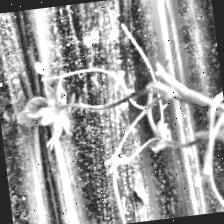Gray Mold: (11, 72, 81, 153)
